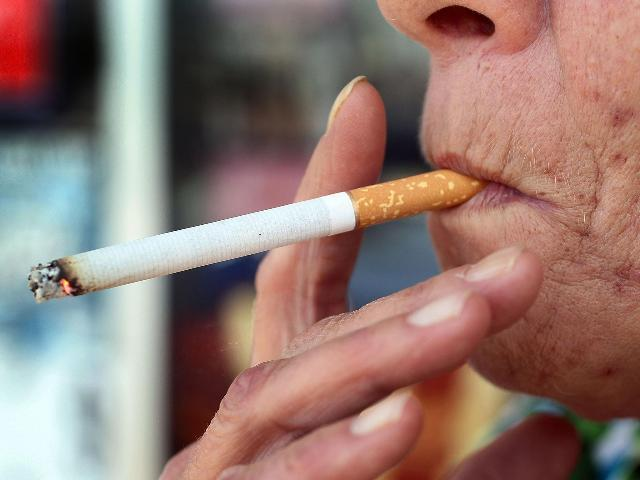Smoking: (28, 166, 494, 306)
